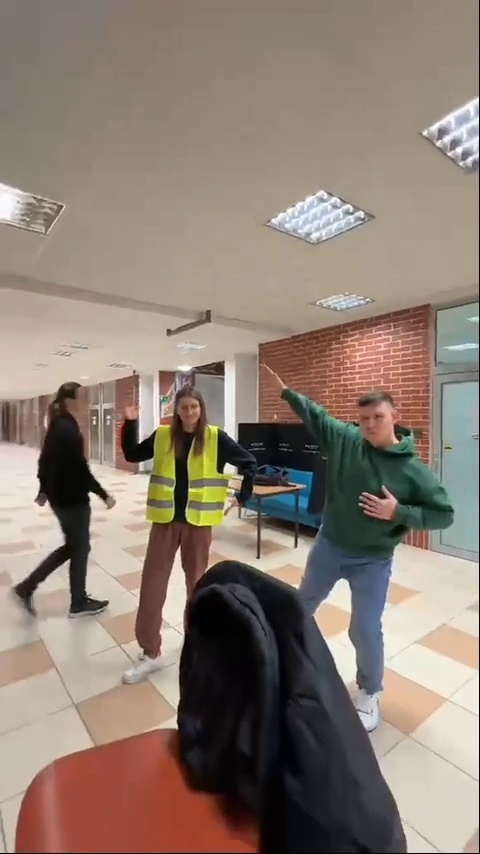no vest: (281, 371, 446, 690), (21, 364, 101, 631)
vest: (118, 387, 264, 692)
